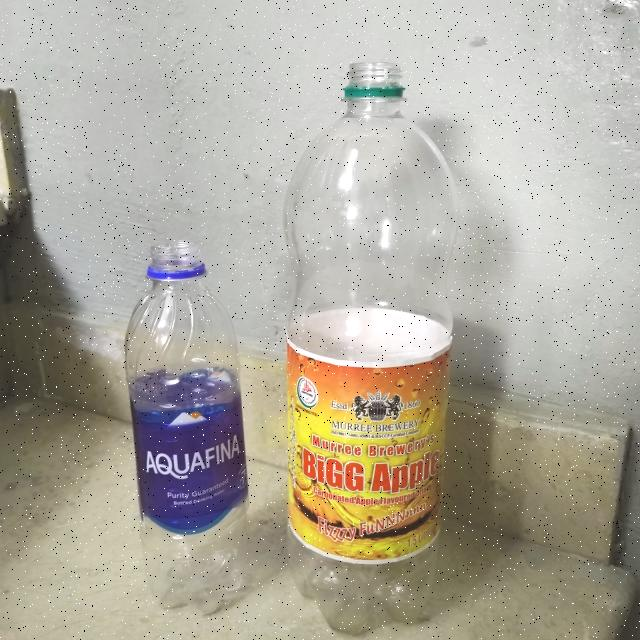bottle: (280, 61, 458, 640), (118, 232, 254, 626)
label: (296, 336, 446, 570), (126, 376, 248, 544)
